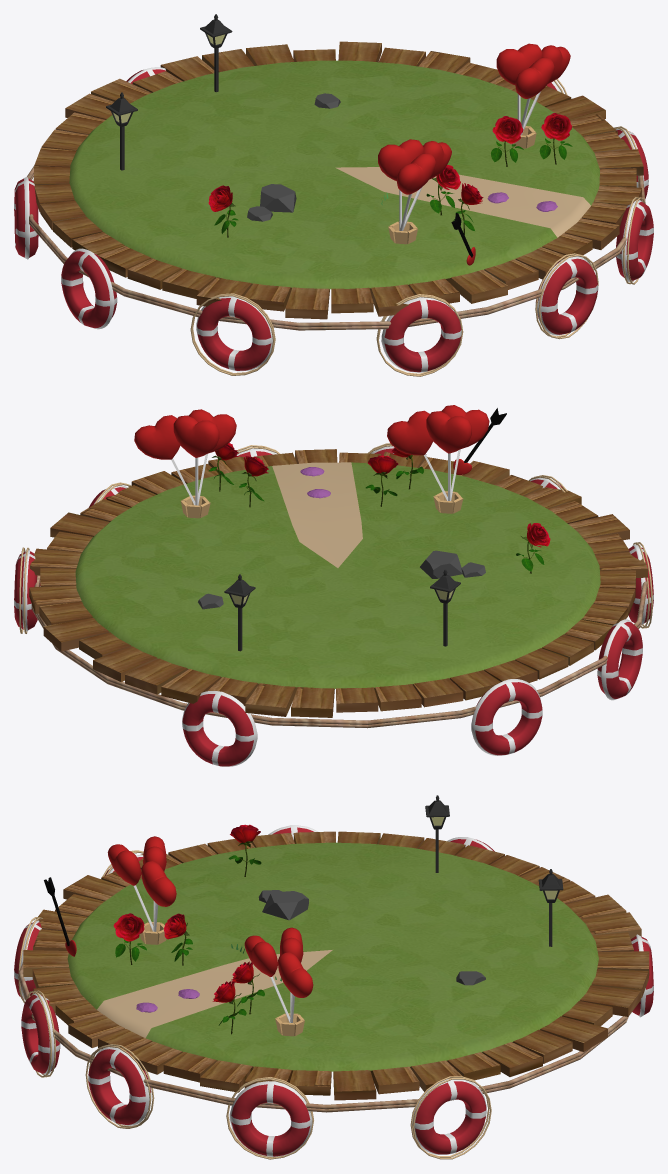
The model's file is Bank_valentines_island.glb.
3 renders of one model, top to bottom at view 1: azimuth 30°, elevation 25°; view 2: azimuth 150°, elevation 25°; view 3: azimuth 270°, elevation 25°, orthographic.
Bounding box in the file's own units: 0.3572 × 0.1102 × 0.3571.
Materials: 17 (4 with a texture image).
